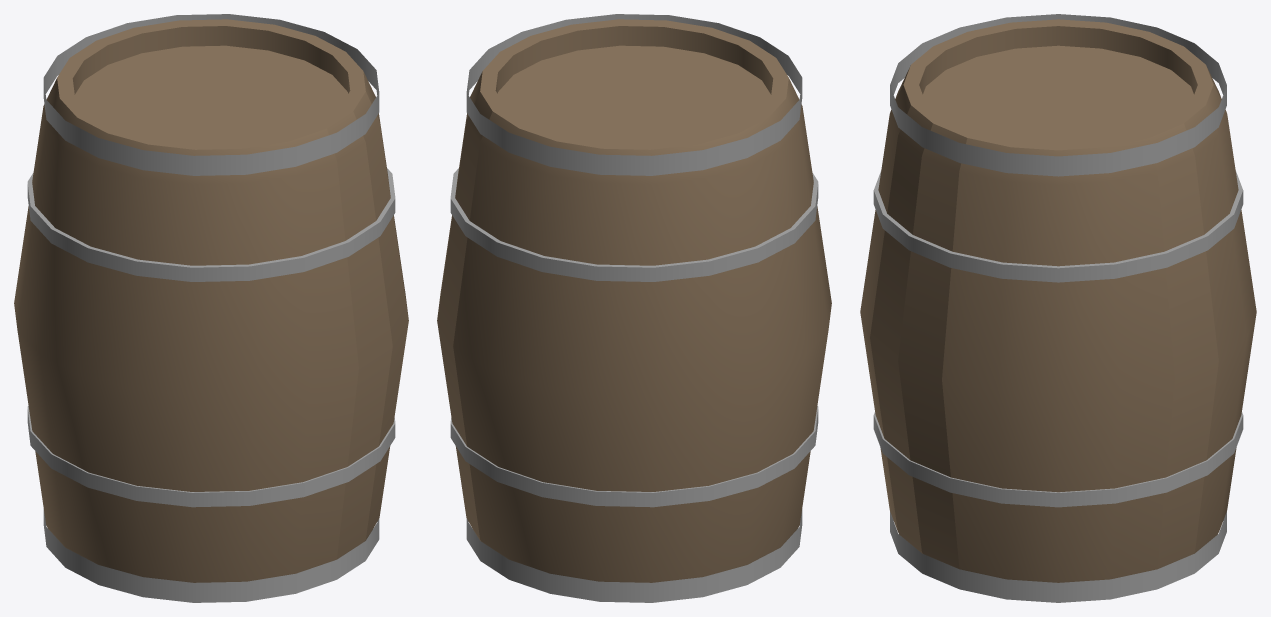
The model's file is Barrel.fbx.
3 views of the same model, side by side, from view 1: azimuth 30°, elevation 25°; view 2: azimuth 150°, elevation 25°; view 3: azimuth 270°, elevation 25° (orthographic).
Parts seen in each view (by area): view 1: barrel1, metal3, metal4, metal2, metal1; view 2: barrel1, metal3, metal4, metal2, metal1; view 3: barrel1, metal3, metal4, metal2, metal1.
Boxes of the visible parts, x1,y1,x2,y2 form: barrel1: (14, 19, 408, 582); metal3: (43, 14, 379, 175); metal4: (43, 509, 379, 602); metal2: (27, 168, 395, 281); metal1: (27, 405, 395, 507); barrel1: (437, 19, 831, 582); metal3: (466, 14, 802, 175); metal4: (466, 509, 802, 602); metal2: (450, 168, 818, 281); metal1: (450, 405, 818, 507); barrel1: (860, 19, 1256, 582); metal3: (890, 14, 1226, 176); metal4: (890, 511, 1226, 602); metal2: (873, 170, 1243, 282); metal1: (873, 412, 1243, 507).
Size of the model in its own units: 345 by 432 by 345.
